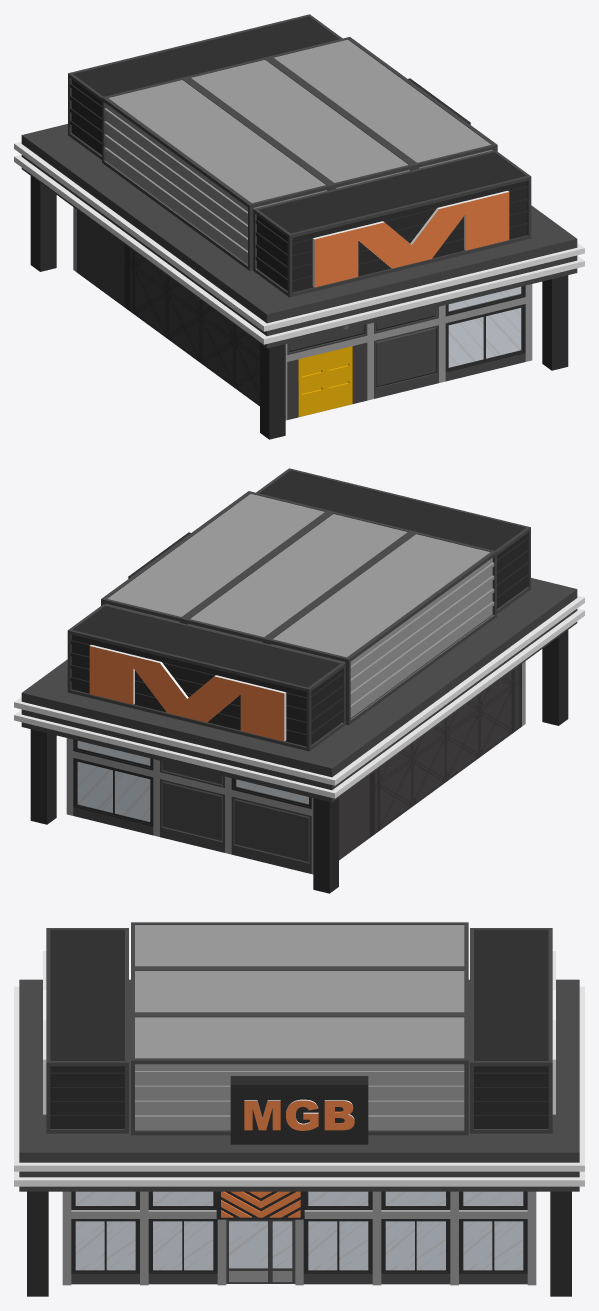
The picture shows the model from 3 angles, top to bottom: view 1: azimuth 30°, elevation 25°; view 2: azimuth 150°, elevation 25°; view 3: azimuth 270°, elevation 25°; orthographic projection. The views are drawn at different scales.
Visible parts, largest first — view 1: 貨櫃箱, 屋頂、柱子, 側面牆, 室內地板.001, 屋頂、柱子.003, 室內地板.002; view 2: 貨櫃箱, 屋頂、柱子, 正門指示牌, 室內地板.001, 屋頂、柱子.002, 室內地板.002; view 3: 貨櫃箱, 屋頂、柱子, 正門指示牌, 屋頂、柱子.001, 正門口, 側面牆, 屋頂、柱子.002, 屋頂、柱子.003.
Part boxes in pixels (x1=…): 貨櫃箱: x1=68, y1=14, x2=531, y2=297; 屋頂、柱子: x1=14, y1=124, x2=584, y2=439; 側面牆: x1=285, y1=284, x2=532, y2=420; 室內地板.001: x1=124, y1=245, x2=259, y2=406; 屋頂、柱子.003: x1=312, y1=190, x2=509, y2=287; 室內地板.002: x1=77, y1=210, x2=124, y2=307; 貨櫃箱: x1=67, y1=468, x2=530, y2=751; 屋頂、柱子: x1=14, y1=578, x2=584, y2=893; 正門指示牌: x1=66, y1=738, x2=313, y2=874; 室內地板.001: x1=369, y1=664, x2=521, y2=837; 屋頂、柱子.002: x1=89, y1=644, x2=286, y2=741; 室內地板.002: x1=339, y1=775, x2=369, y2=860; 貨櫃箱: x1=46, y1=922, x2=552, y2=1135; 屋頂、柱子: x1=14, y1=979, x2=584, y2=1296; 正門指示牌: x1=71, y1=1191, x2=536, y2=1285; 屋頂、柱子.001: x1=230, y1=1076, x2=368, y2=1144; 正門口: x1=226, y1=1219, x2=270, y2=1283; 側面牆: x1=62, y1=1191, x2=71, y2=1285; 屋頂、柱子.002: x1=552, y1=951, x2=555, y2=1114; 屋頂、柱子.003: x1=43, y1=951, x2=46, y2=1114.
Size of the model in its own units: 1966 by 1142 by 2651.
